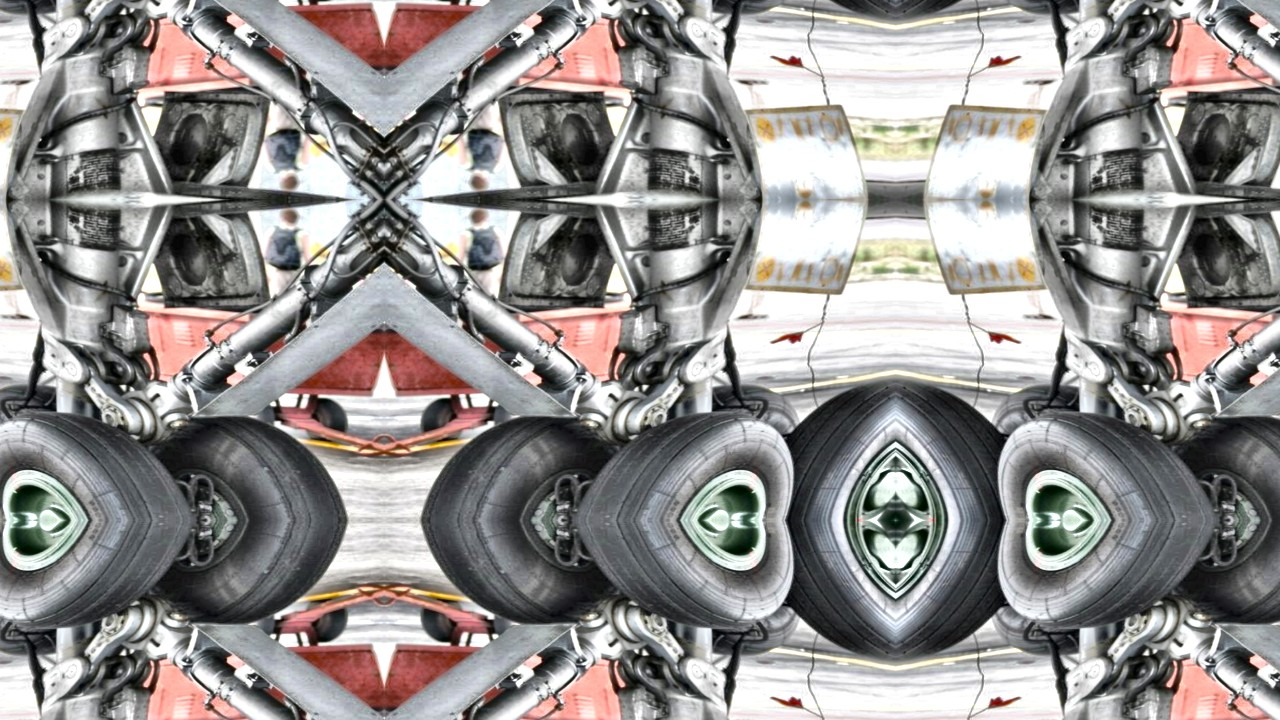wheel: (557, 520, 829, 639), (963, 520, 1235, 639), (557, 402, 829, 520), (963, 402, 1235, 520), (0, 520, 211, 639), (0, 402, 211, 520), (147, 520, 355, 631), (413, 520, 621, 631), (147, 410, 355, 520), (413, 410, 621, 520), (752, 520, 896, 671), (896, 520, 1040, 671), (752, 370, 896, 520), (896, 370, 1040, 520), (1171, 520, 1280, 631), (1171, 410, 1280, 520), (696, 380, 813, 437), (979, 380, 1096, 437), (696, 604, 813, 661), (979, 604, 1096, 661), (752, 0, 896, 29), (896, 0, 1040, 29), (0, 380, 72, 437), (0, 604, 72, 661), (0, 520, 16, 671), (0, 370, 16, 520), (696, 0, 813, 19), (979, 0, 1096, 19), (0, 0, 72, 19)
